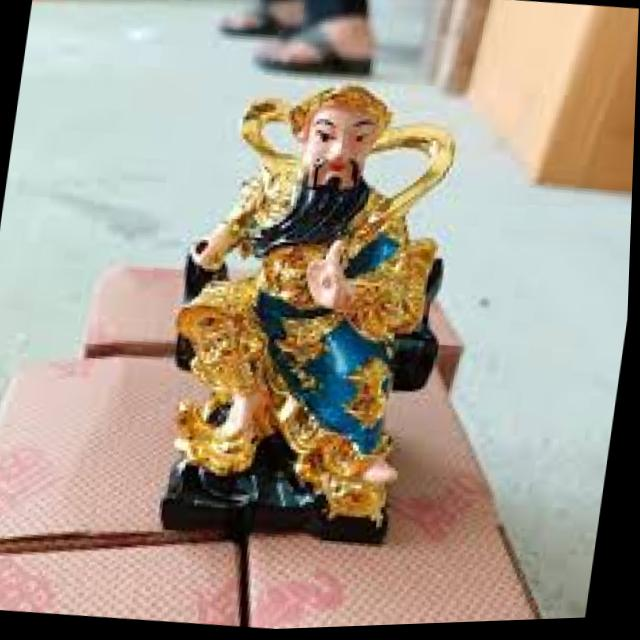Xuan wu: (151, 63, 469, 558)
